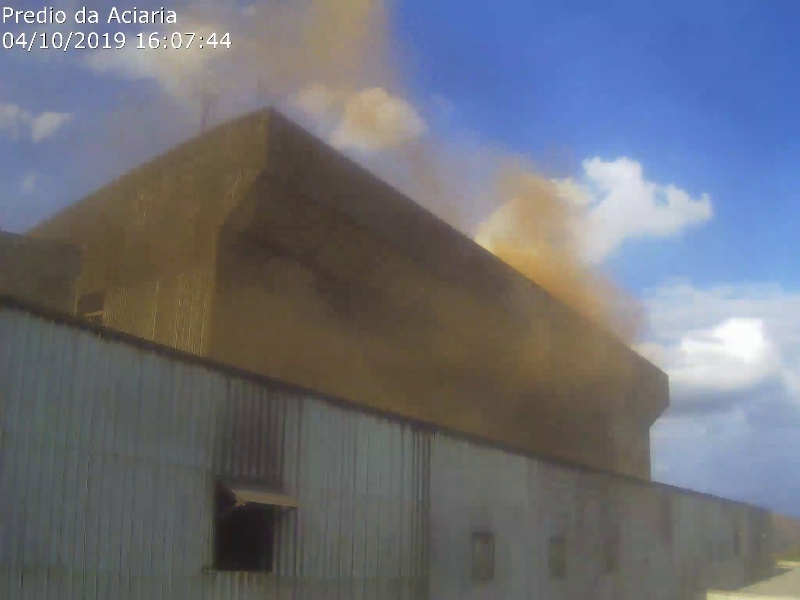pessimo: (350, 175, 628, 363), (127, 173, 405, 361), (170, 4, 434, 173)
